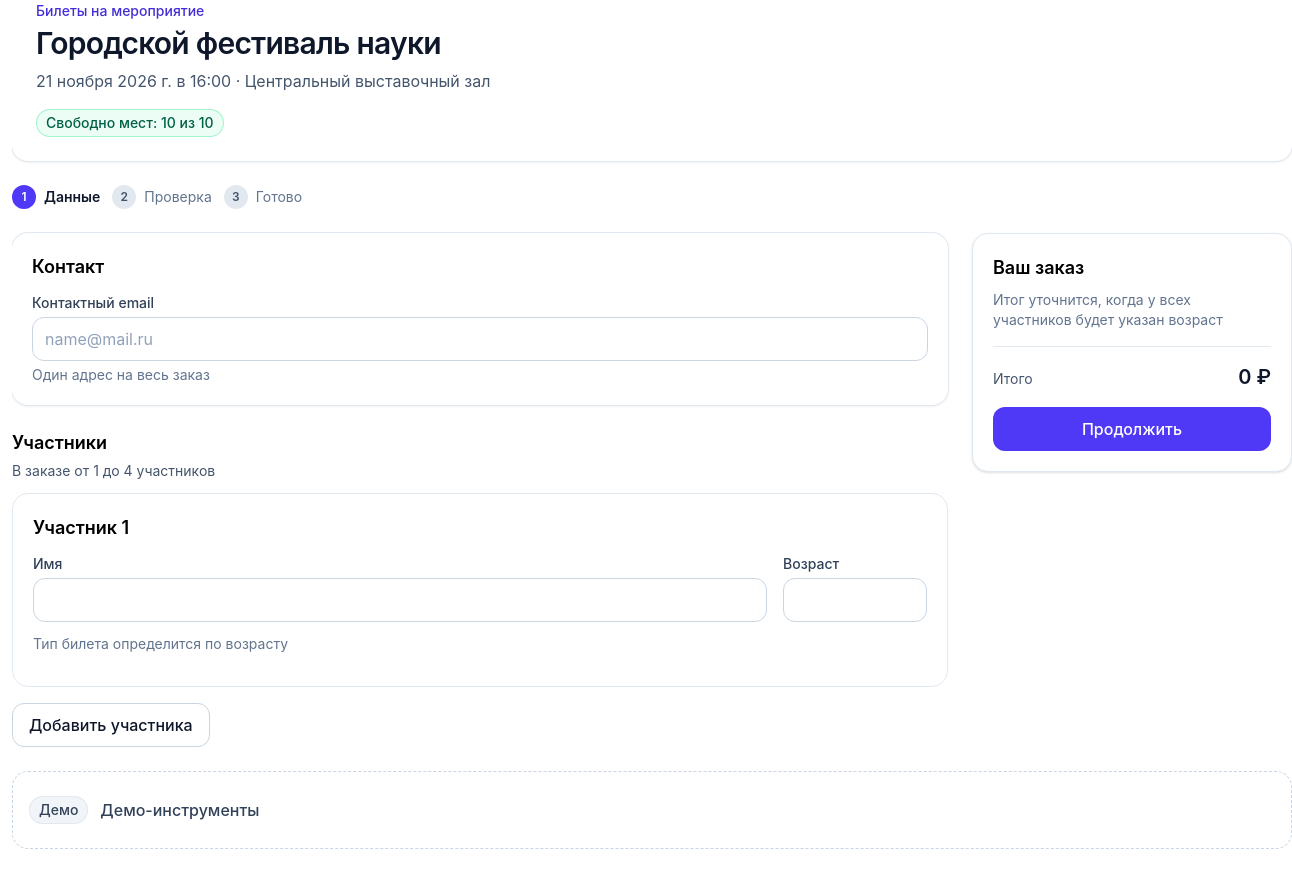
Test: демо-панель › «Сбросить» вызывает эндпоинт и возвращает остаток
The width and height of the screenshot is (1292, 874).
Click the heading "Демо Демо-инструменты" at (144, 810), box [29, 796, 259, 824]
(page scrolled)
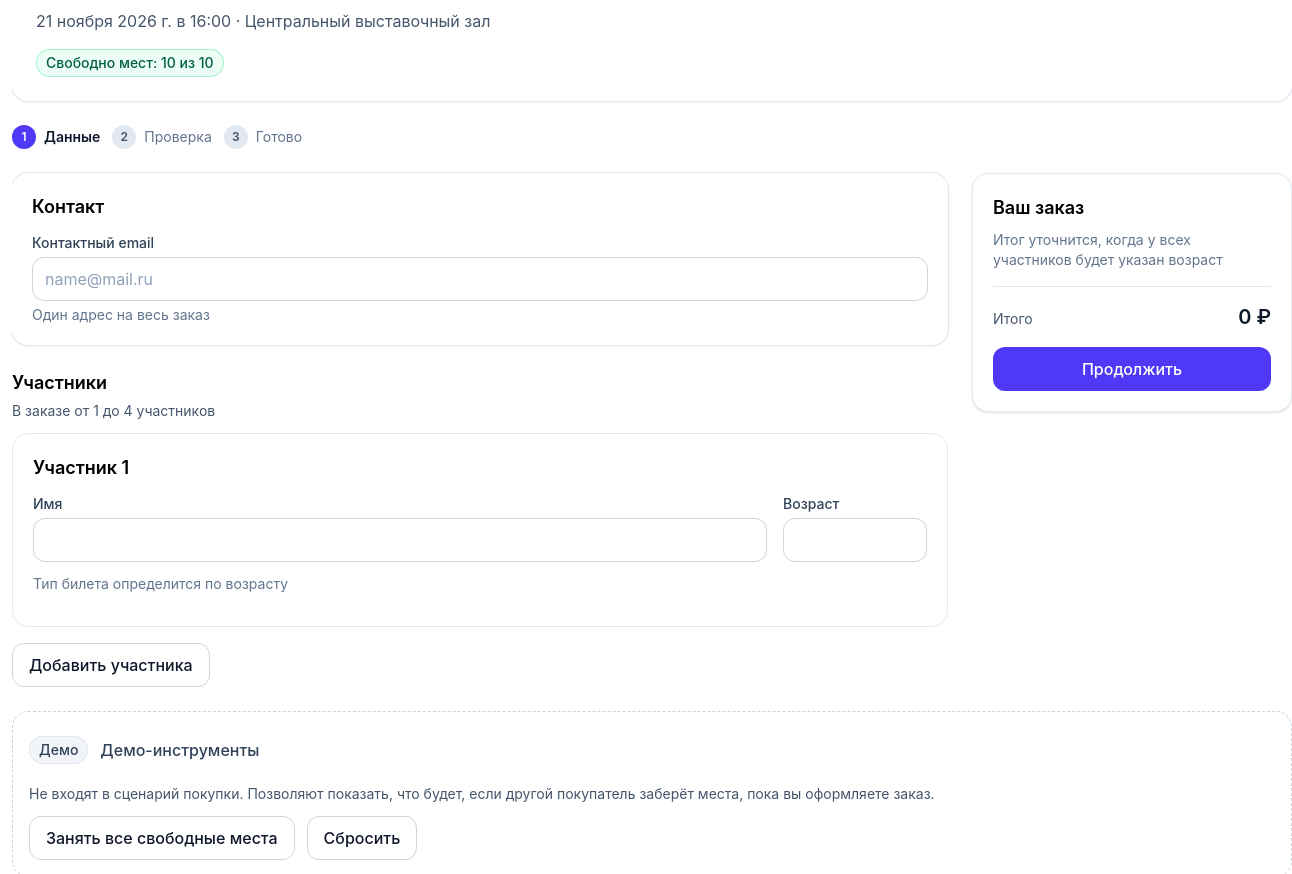
Click the button "Занять все свободные места" at (162, 838), box [29, 816, 295, 860]
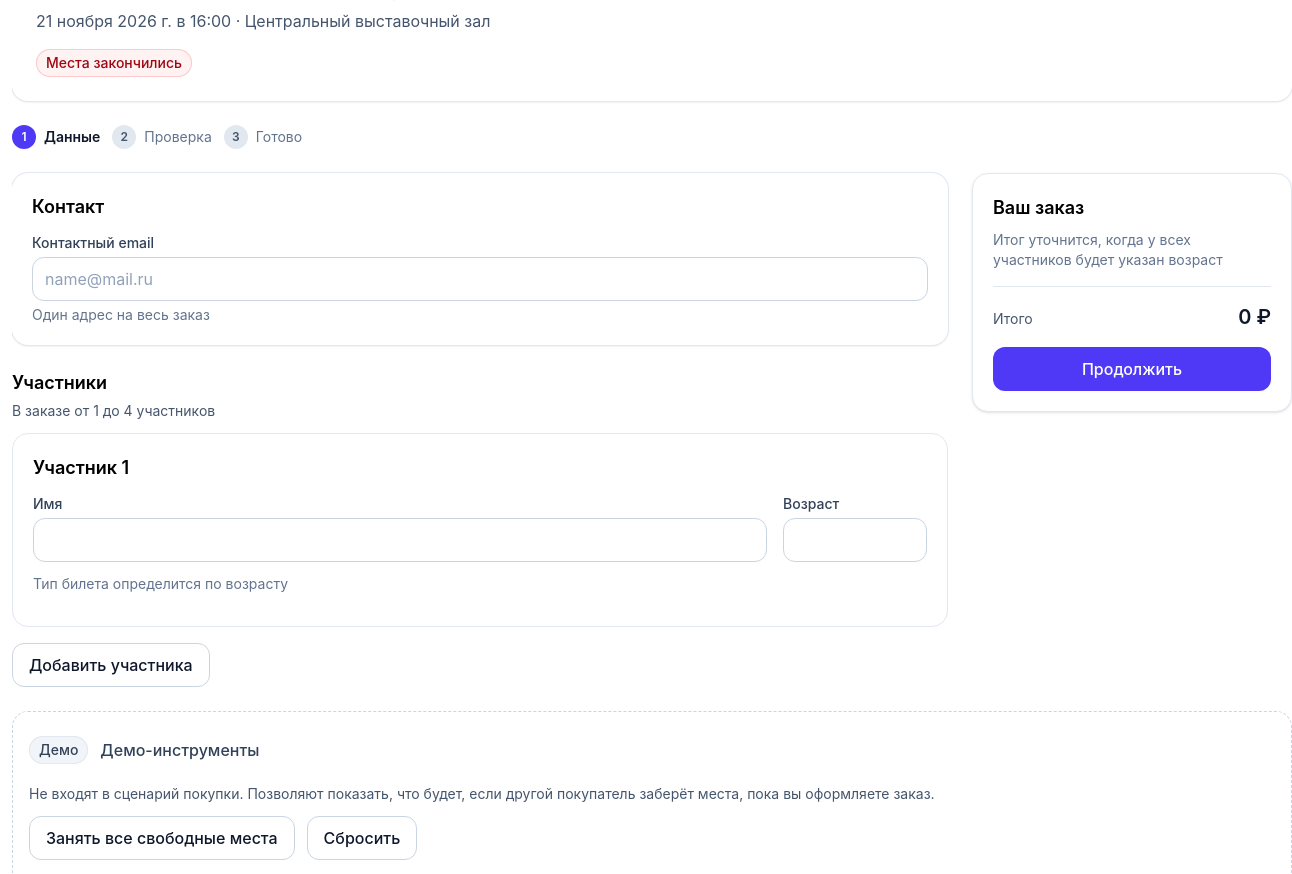
Click the button "Сбросить" at (362, 838), box [307, 816, 417, 860]
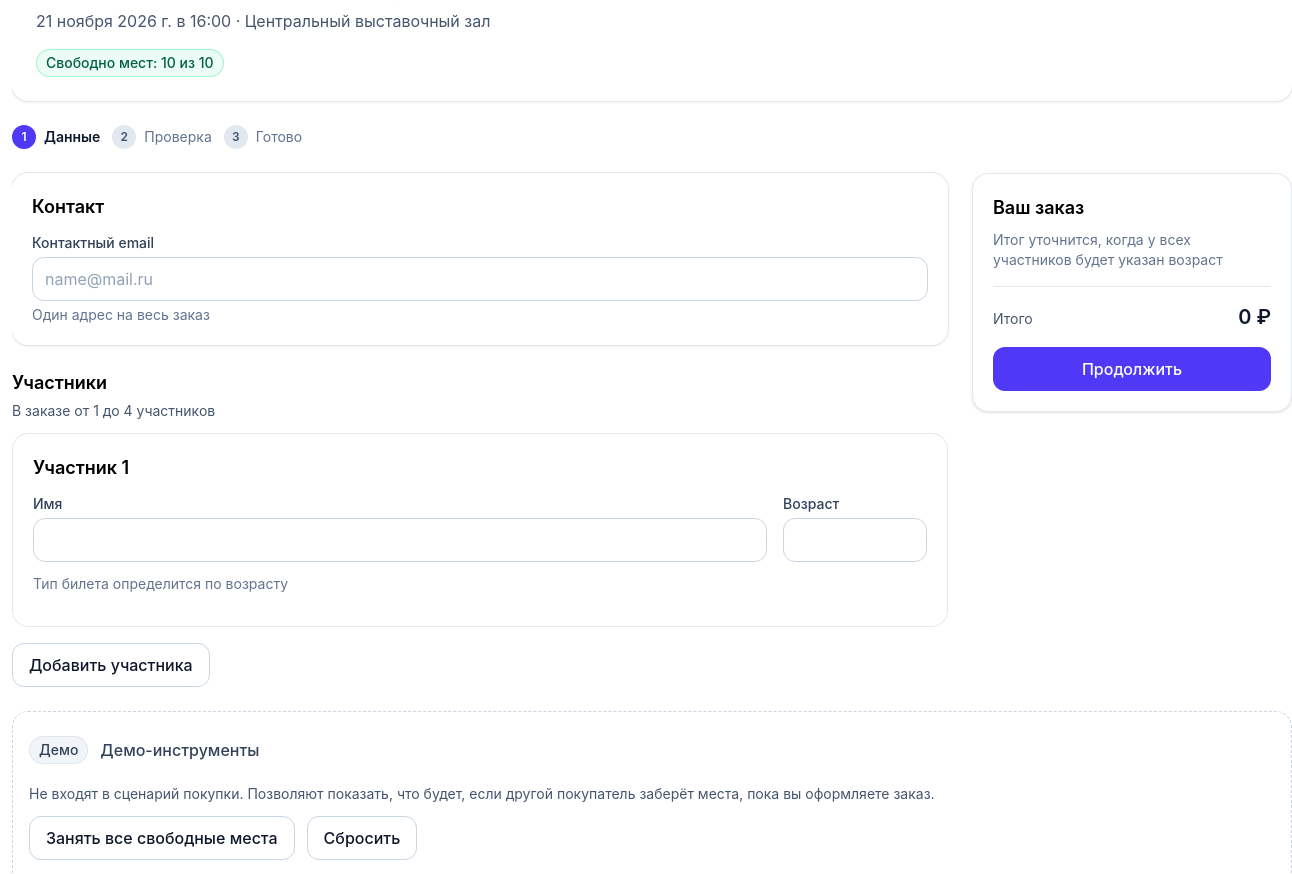
Result: the text "Свободно мест: 10 из 10" is shown at [36, 49, 224, 77]
